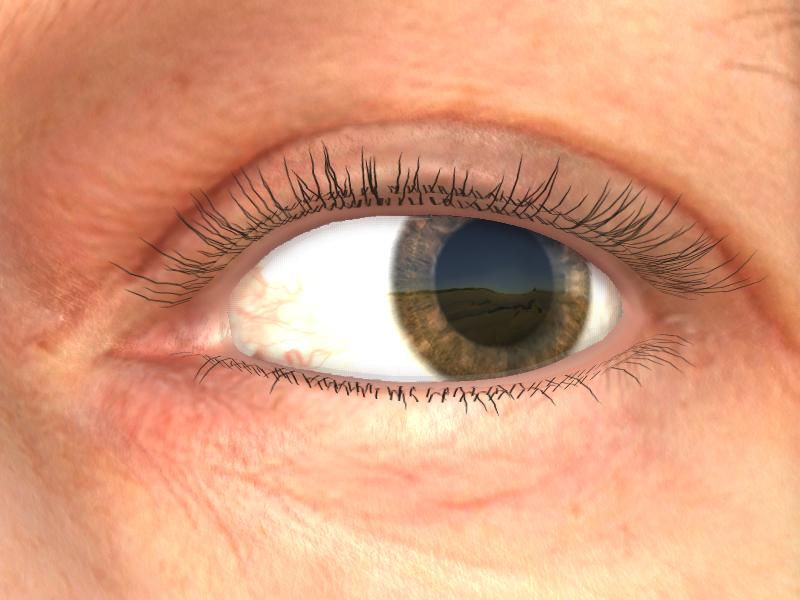eye: (389, 209, 590, 378)
